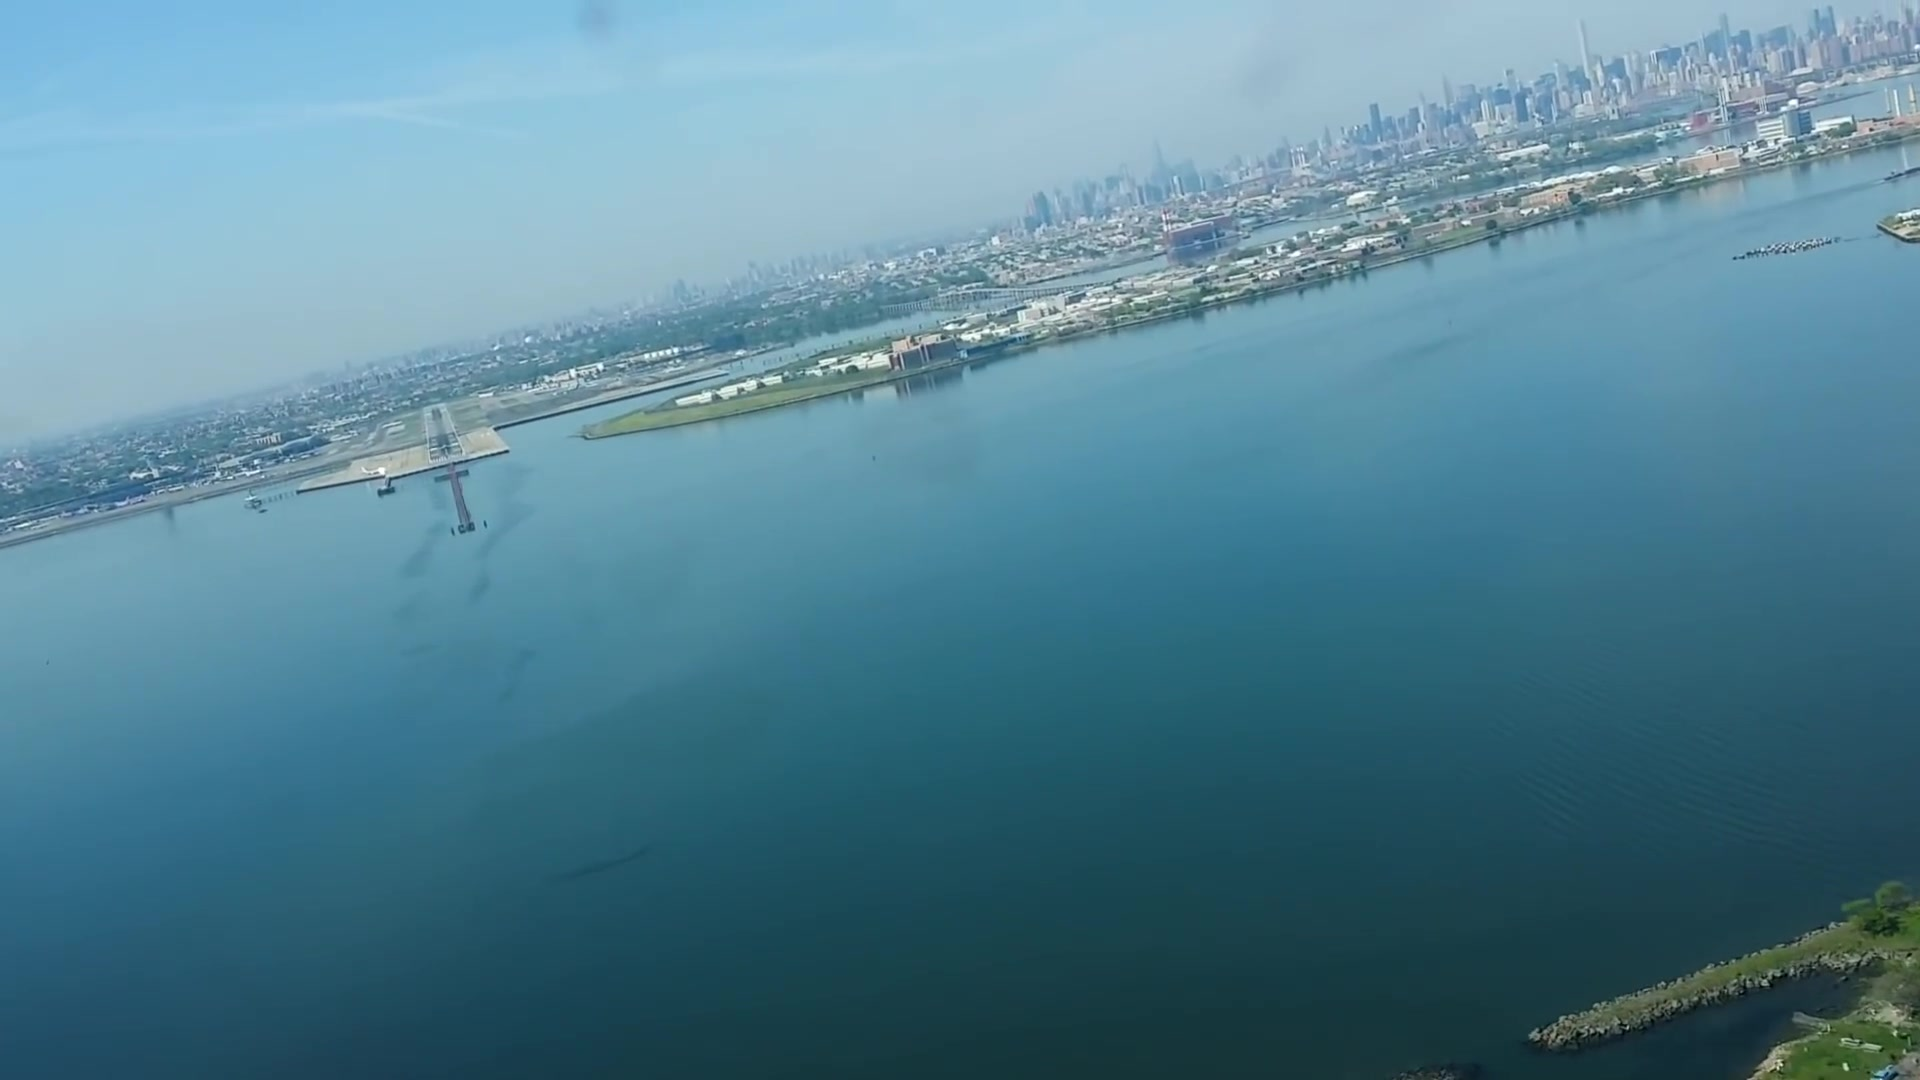runway: (421, 400, 465, 465)
